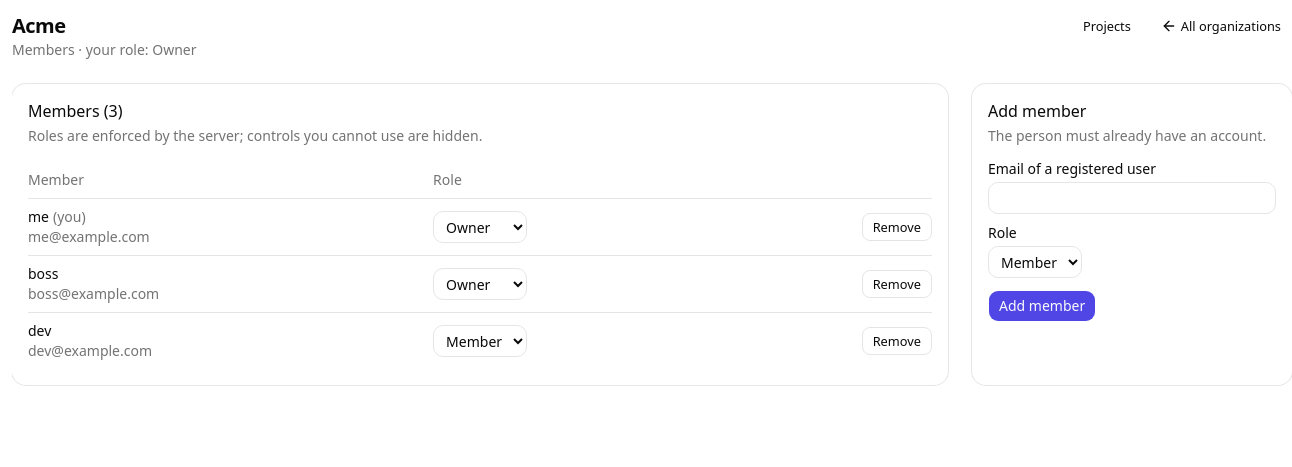
MembersManager › shows the server's refusal when a change is denied
Select "Admin" in the dropdown named "Role of boss@example.com": (480, 284) [433, 268, 527, 300]
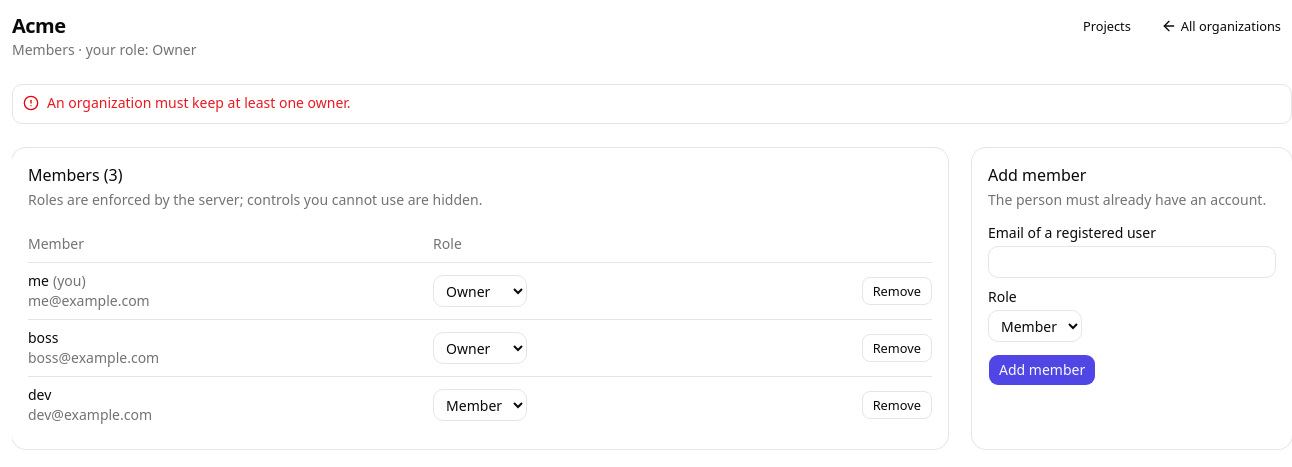
Expected: the text "An organization must keep at least one owner." is shown, [47, 93, 351, 112]
